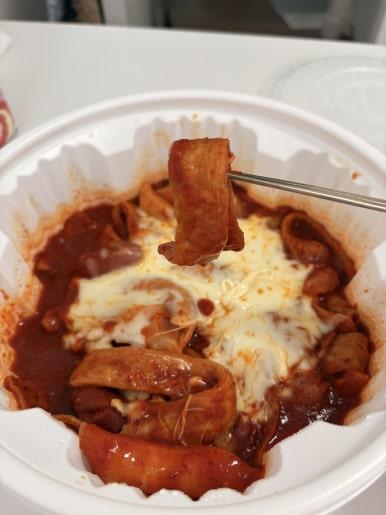Lunch Box: (0, 91, 385, 514), (260, 56, 385, 154)
